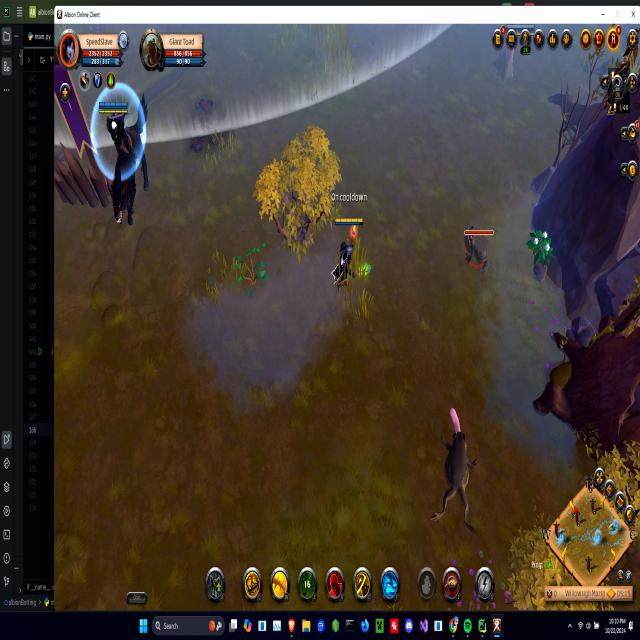hide: (526, 220, 558, 276)
ore: (460, 219, 496, 274)
red: (96, 91, 156, 229), (329, 208, 370, 304)
